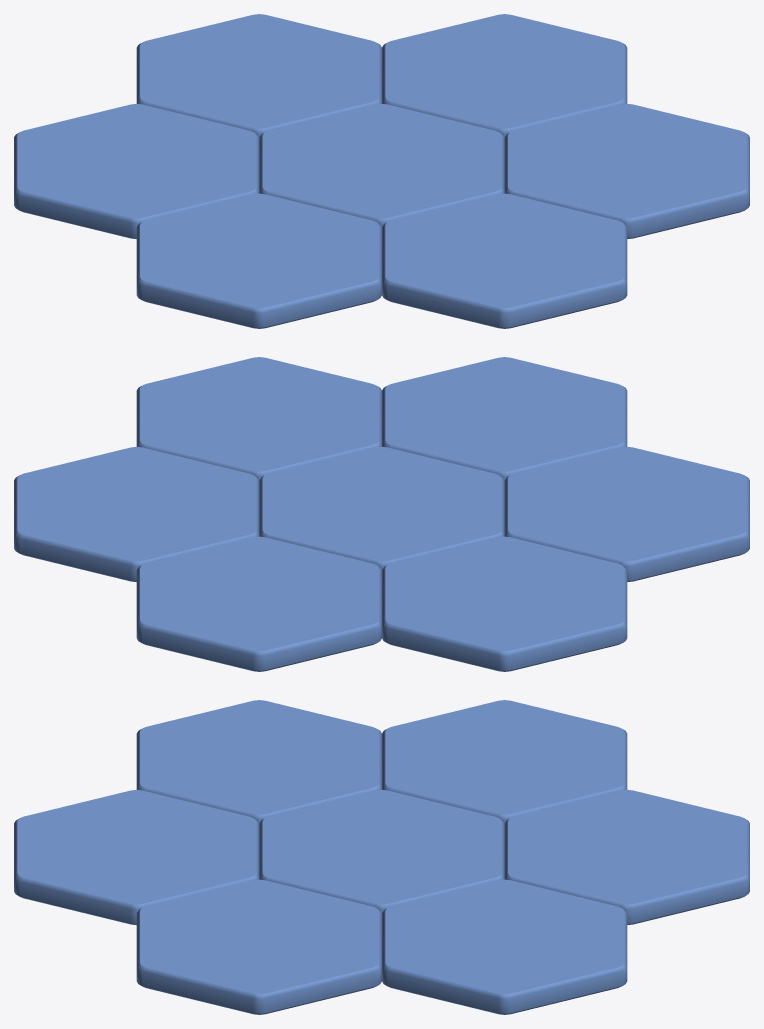
The model's file is Stage_Hexagon.fbx.
3 renders of one model, top to bottom at view 1: azimuth 30°, elevation 25°; view 2: azimuth 150°, elevation 25°; view 3: azimuth 270°, elevation 25°, orthographic.
Parts seen in each view (by area): view 1: stage_hexagon3, stage_hexagon5, stage_hexagon4, stage_hexagon7, stage_hexagon1, stage_hexagon2, stage_hexagon6; view 2: stage_hexagon2, stage_hexagon7, stage_hexagon5, stage_hexagon6, stage_hexagon1, stage_hexagon3, stage_hexagon4; view 3: stage_hexagon4, stage_hexagon6, stage_hexagon2, stage_hexagon3, stage_hexagon1, stage_hexagon5, stage_hexagon7.
Boxes of the visible parts, x1,y1,x2,y2 form: stage_hexagon3: (382, 193, 627, 328); stage_hexagon5: (136, 193, 381, 328); stage_hexagon4: (504, 103, 749, 238); stage_hexagon7: (14, 103, 259, 238); stage_hexagon1: (259, 104, 504, 226); stage_hexagon2: (136, 14, 381, 136); stage_hexagon6: (382, 14, 627, 136); stage_hexagon2: (136, 536, 381, 671); stage_hexagon7: (382, 536, 627, 671); stage_hexagon5: (504, 446, 749, 581); stage_hexagon6: (14, 446, 259, 581); stage_hexagon1: (259, 447, 504, 569); stage_hexagon3: (382, 357, 627, 479); stage_hexagon4: (136, 357, 381, 479); stage_hexagon4: (136, 879, 381, 1014); stage_hexagon6: (382, 879, 627, 1014); stage_hexagon2: (504, 789, 749, 924); stage_hexagon3: (14, 789, 259, 924); stage_hexagon1: (259, 790, 504, 912); stage_hexagon5: (136, 700, 381, 822); stage_hexagon7: (382, 700, 627, 822).
Size of the model in its own units: 622 by 20 by 650.
Materials: 1 (1 with a texture image).
